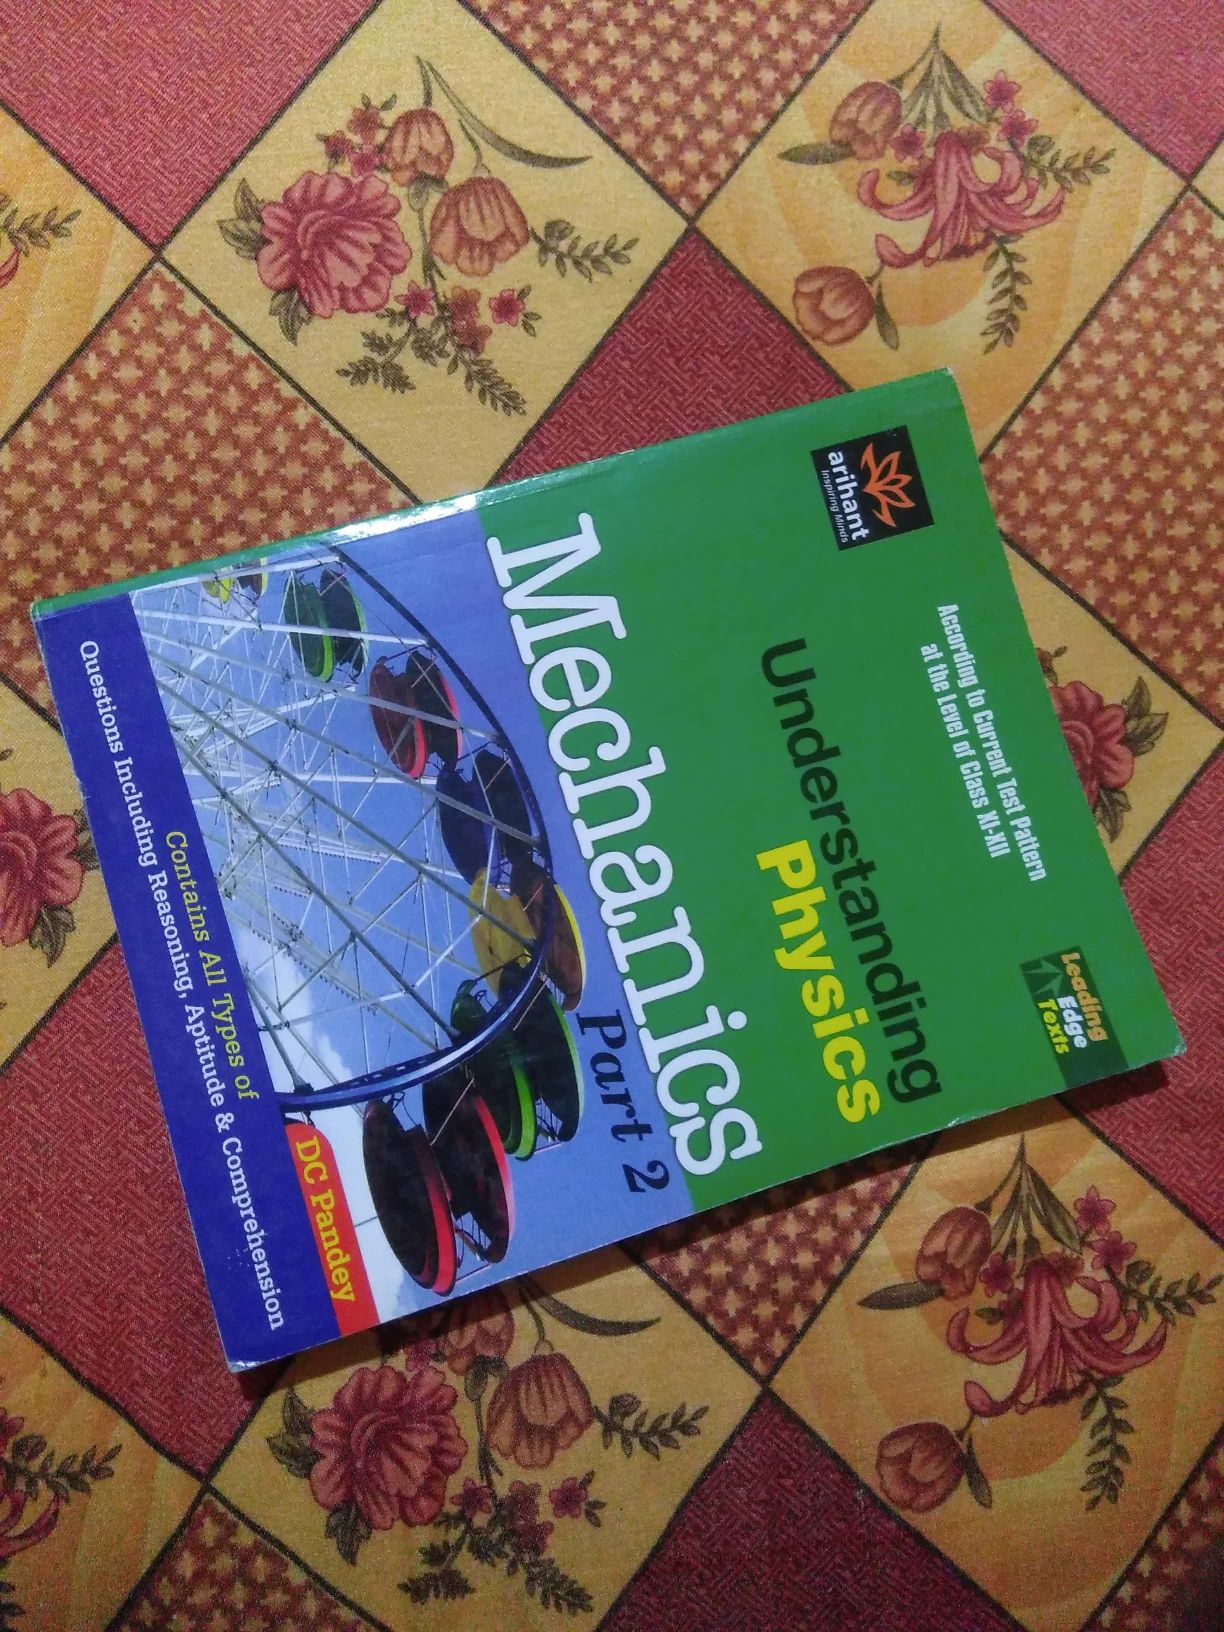mechanics: (33, 505, 1193, 1304)
